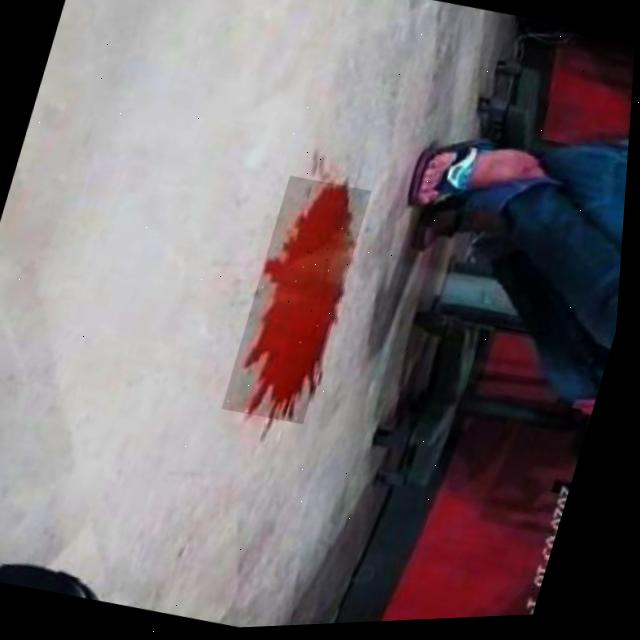spillage: (248, 186, 356, 419)
